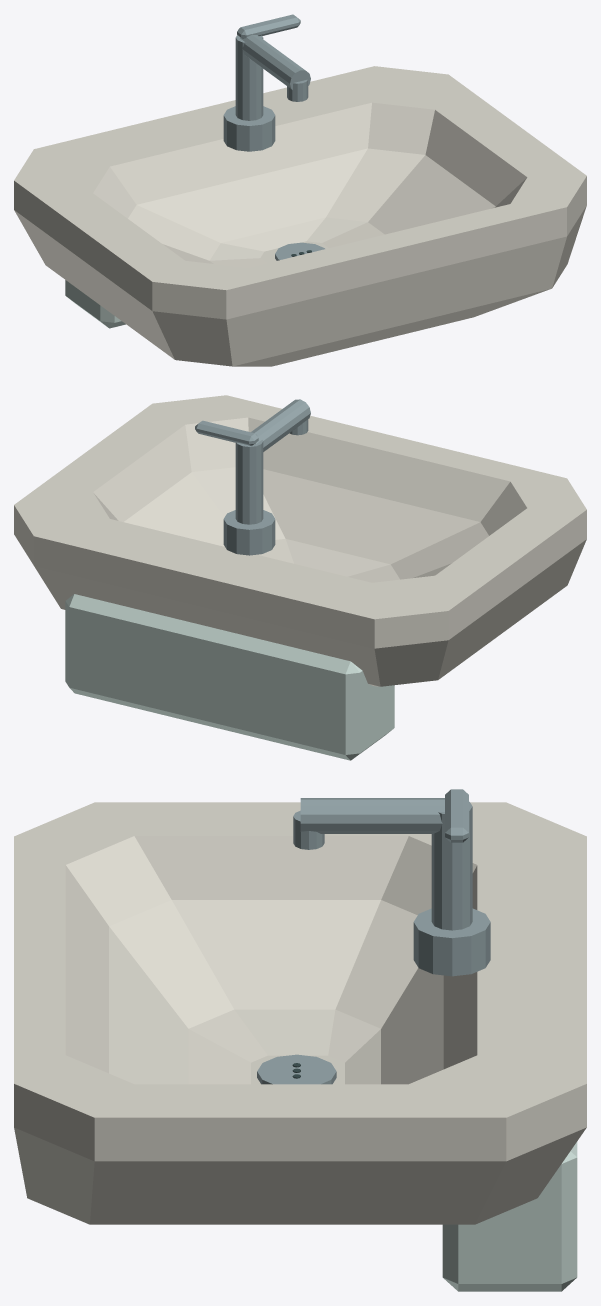
The model's file is Facilities-Sink.fbx.
The picture shows the model from 3 angles, top to bottom: view 1: azimuth 30°, elevation 25°; view 2: azimuth 150°, elevation 25°; view 3: azimuth 270°, elevation 25°; orthographic projection. The views are drawn at different scales.
Parts seen in each view (by area): view 1: Basin | Exterior and Open Interior, Tap Riser, Tap Base, Tap Spout, Wall Bracket, Tap Lever, Drain Flange; view 2: Basin | Exterior and Open Interior, Wall Bracket, Tap Riser, Tap Base, Tap Spout, Tap Lever; view 3: Basin | Exterior and Open Interior, Wall Bracket, Tap Spout, Tap Base, Tap Riser, Drain Flange, Tap Lever, Tap Aerator.
Boxes of the visible parts, x1,y1,x2,y2 form: Basin | Exterior and Open Interior: [14, 66, 586, 366]; Tap Riser: [235, 35, 263, 120]; Tap Base: [223, 106, 275, 151]; Tap Spout: [240, 34, 310, 89]; Wall Bracket: [65, 280, 125, 328]; Tap Lever: [237, 14, 300, 38]; Drain Flange: [275, 242, 324, 260]; Basin | Exterior and Open Interior: [14, 395, 586, 686]; Wall Bracket: [65, 594, 394, 760]; Tap Riser: [235, 440, 263, 524]; Tap Base: [223, 510, 275, 555]; Tap Spout: [251, 399, 310, 451]; Tap Lever: [195, 420, 258, 445]; Basin | Exterior and Open Interior: [14, 802, 586, 1224]; Wall Bracket: [442, 1142, 577, 1291]; Tap Spout: [300, 798, 444, 833]; Tap Base: [413, 908, 490, 976]; Tap Riser: [431, 801, 472, 930]; Drain Flange: [257, 1054, 336, 1084]; Tap Lever: [445, 789, 468, 842]; Tap Aerator: [293, 810, 324, 849].
Size of the model in its own units: 0.62 by 0.365 by 0.476.
